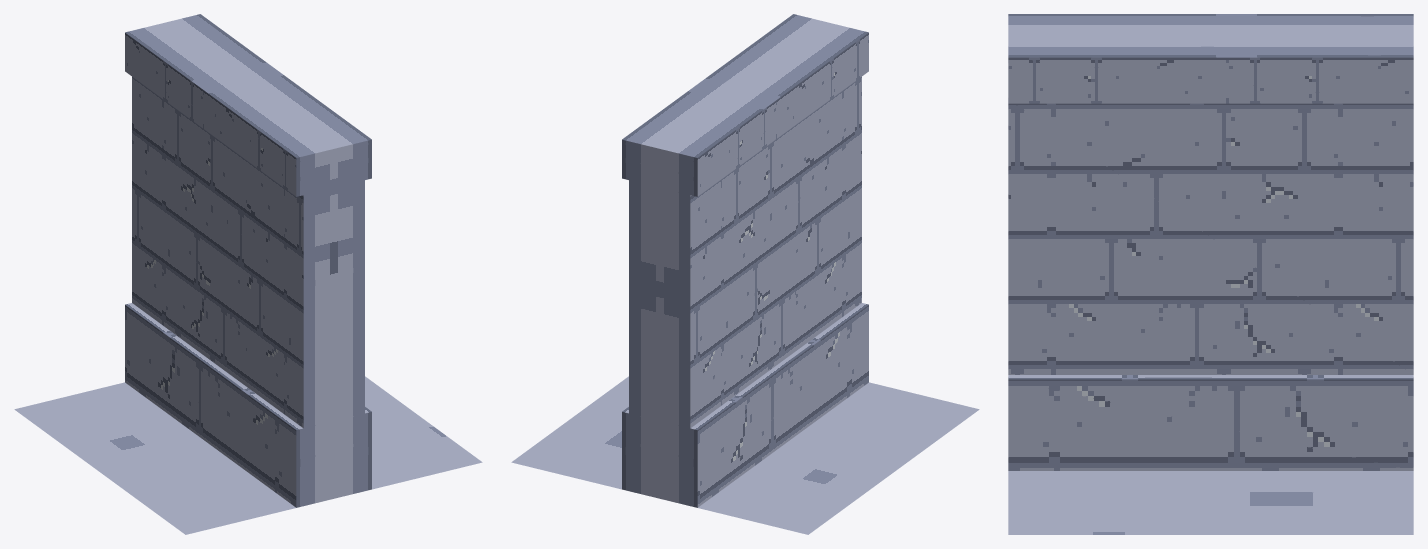
The model's file is Wall.fbx.
3 renders of one model, left to right at view 1: azimuth 30°, elevation 25°; view 2: azimuth 150°, elevation 25°; view 3: azimuth 270°, elevation 25°, orthographic. The views are drawn at different scales.
Parts seen in each view (by area): view 1: Wall; view 2: Wall; view 3: Wall.
Boxes of the visible parts, left/top/right/bottom form: Wall: left=14, top=14, right=482, bottom=534; Wall: left=511, top=14, right=979, bottom=534; Wall: left=1008, top=14, right=1413, bottom=534.
Size of the model in its own units: 200 by 225 by 200.
